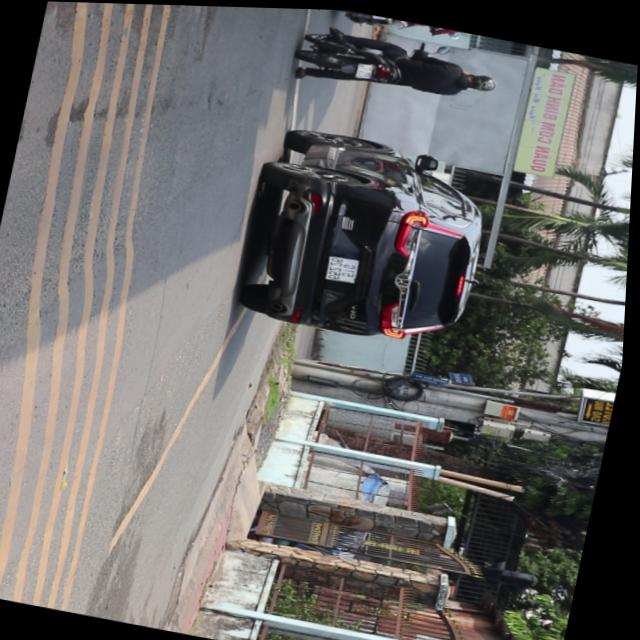helmet: (467, 70, 500, 93)
licenseplate: (291, 21, 507, 114)
nohelmet: (356, 62, 373, 78)
